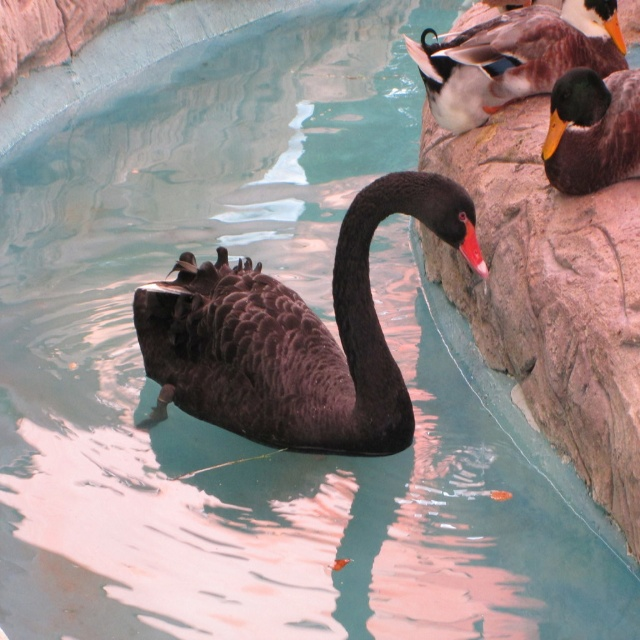Swan: (132, 170, 489, 458), (403, 0, 629, 136), (540, 67, 640, 195)
